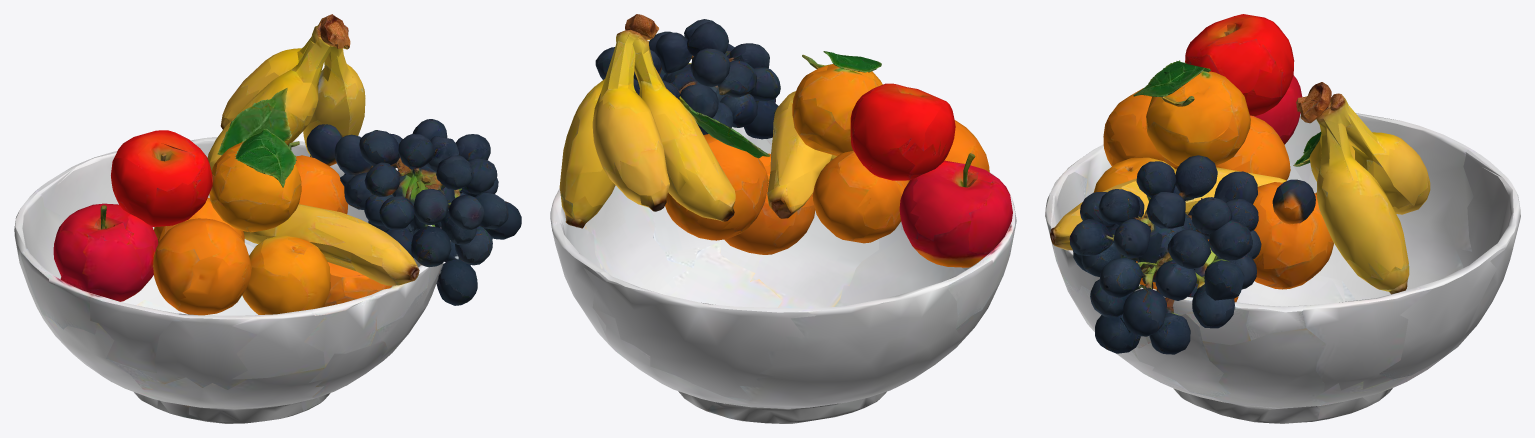
File: fruitbowl.glb
The picture shows the model from 3 angles, left to right: view 1: azimuth 30°, elevation 25°; view 2: azimuth 150°, elevation 25°; view 3: azimuth 270°, elevation 25°; orthographic projection. The views are drawn at different scales.
Size of the model in its own units: 1.9 by 1.43 by 1.73.
Materials: 1 (1 with a texture image).
